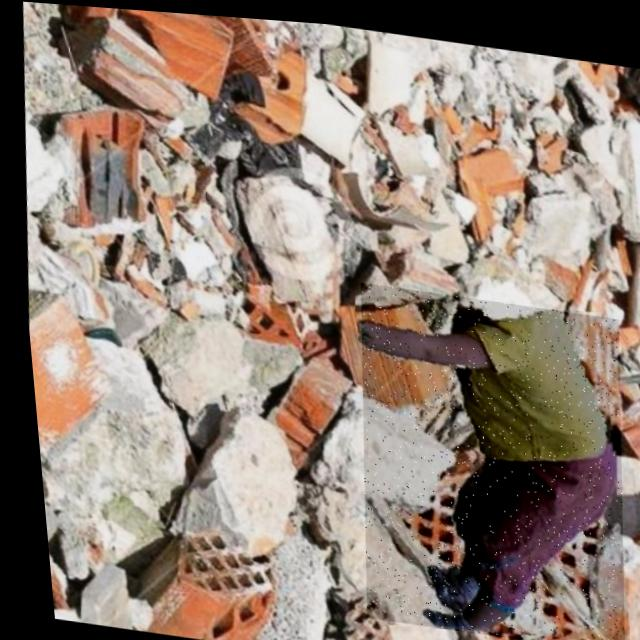Person in Rubble: (331, 275, 636, 640)
